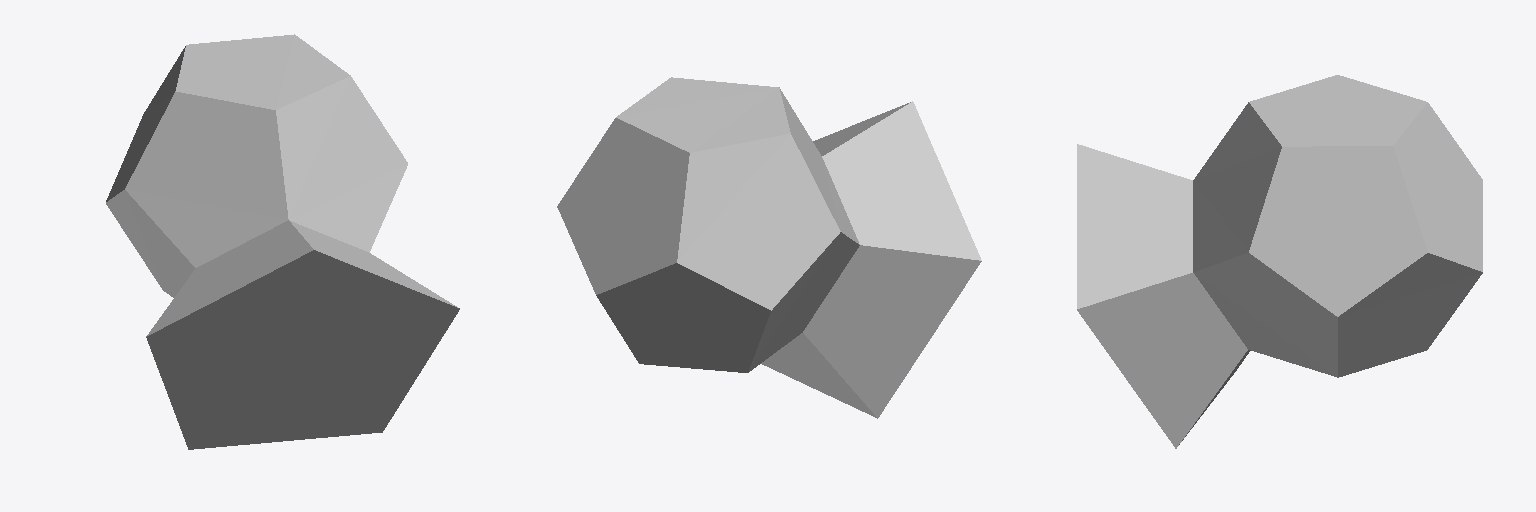
3 renders of one model, left to right at view 1: azimuth 30°, elevation 25°; view 2: azimuth 150°, elevation 25°; view 3: azimuth 270°, elevation 25°, orthographic.
Visible parts, largest first — view 1: core_Icosphere.003, cell.01_Icosphere.006; view 2: core_Icosphere.003, cell.01_Icosphere.006; view 3: core_Icosphere.003, cell.01_Icosphere.006.
Part boxes in pixels (x1,y1,x2,y2): core_Icosphere.003: (106, 34, 407, 297); cell.01_Icosphere.006: (146, 220, 459, 449); core_Icosphere.003: (557, 77, 859, 372); cell.01_Icosphere.006: (761, 101, 981, 418); core_Icosphere.003: (1193, 75, 1482, 377); cell.01_Icosphere.006: (1077, 144, 1250, 448).
Bounding box in the file's own units: 5.75 × 5.32 × 6.25.